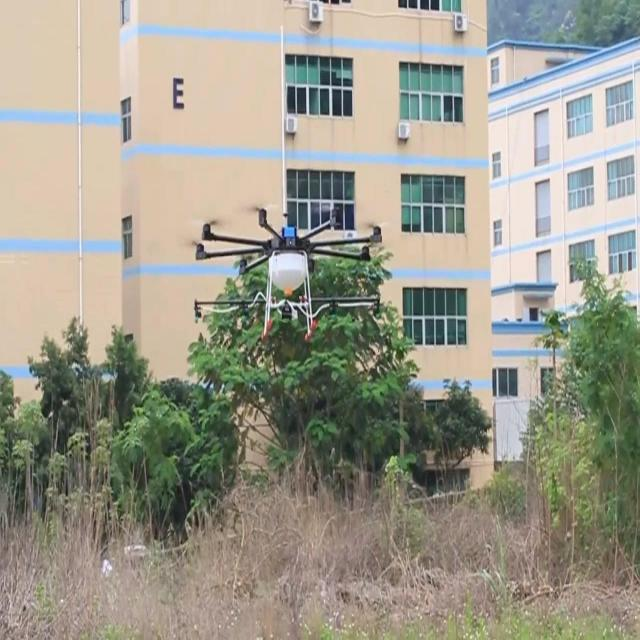UAV: (194, 208, 382, 340)
